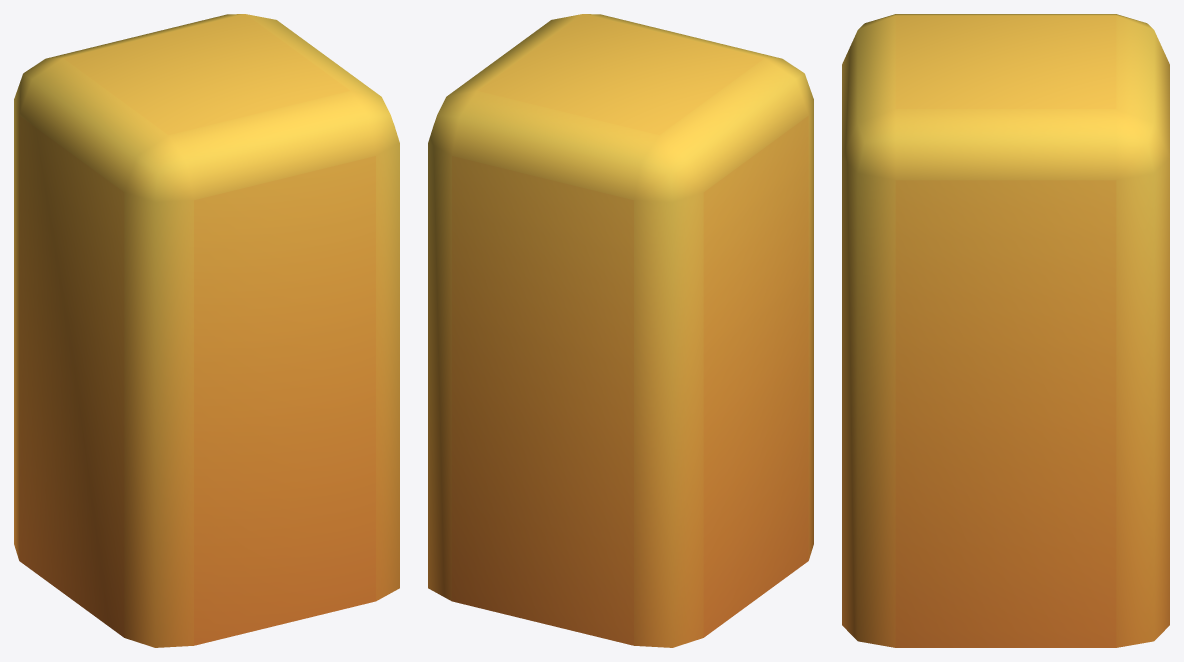
Rendered from colum.fbx.
3 views of the same model, side by side, from view 1: azimuth 30°, elevation 25°; view 2: azimuth 150°, elevation 25°; view 3: azimuth 270°, elevation 25° (orthographic). The views are drawn at different scales.
Visible parts, largest first — view 1: colum; view 2: colum; view 3: colum.
Part boxes in pixels (x1,y1,x2,y2): colum: (14, 14, 399, 647); colum: (428, 14, 813, 647); colum: (842, 14, 1169, 647).
Size of the model in its own units: 190 by 331 by 190.
